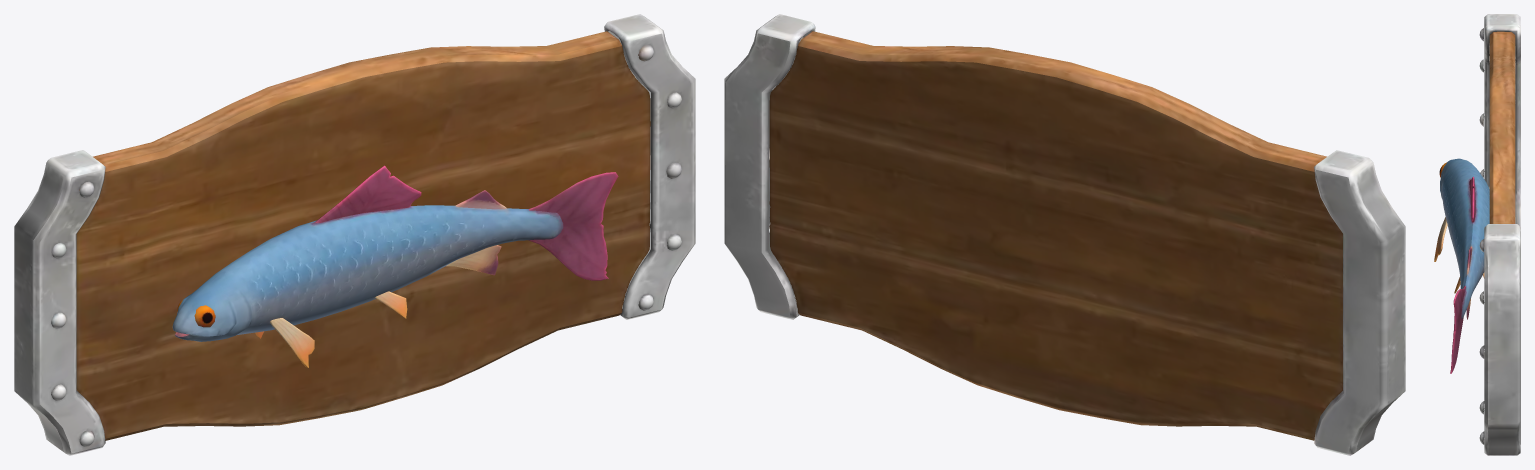
The picture shows the model from 3 angles, left to right: view 1: azimuth 30°, elevation 25°; view 2: azimuth 150°, elevation 25°; view 3: azimuth 270°, elevation 25°; orthographic projection. The views are drawn at different scales.
Parts seen in each view (by area): view 1: SM_Trophy_Plaque_Herring_01_LOD0; view 2: SM_Trophy_Plaque_Herring_01_LOD0; view 3: SM_Trophy_Plaque_Herring_01_LOD0.
Part boxes in pixels (x1,y1,x2,y2): SM_Trophy_Plaque_Herring_01_LOD0: (14,14,695,455); SM_Trophy_Plaque_Herring_01_LOD0: (724,14,1405,455); SM_Trophy_Plaque_Herring_01_LOD0: (1434,14,1520,455).
Size of the model in its own units: 0.6587 by 0.3223 by 0.0967.
Materials: 2 (2 with a texture image).
